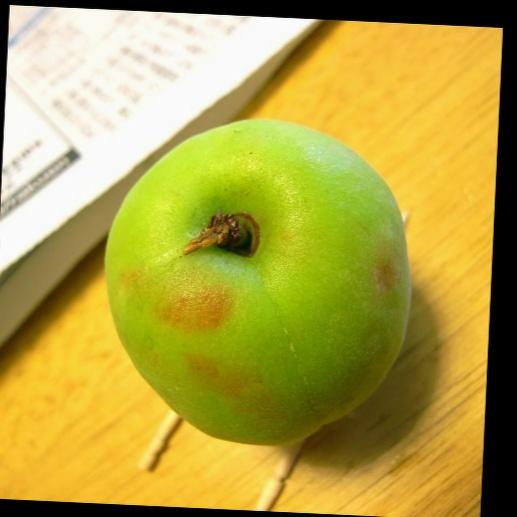green apple: (95, 115, 421, 449)
